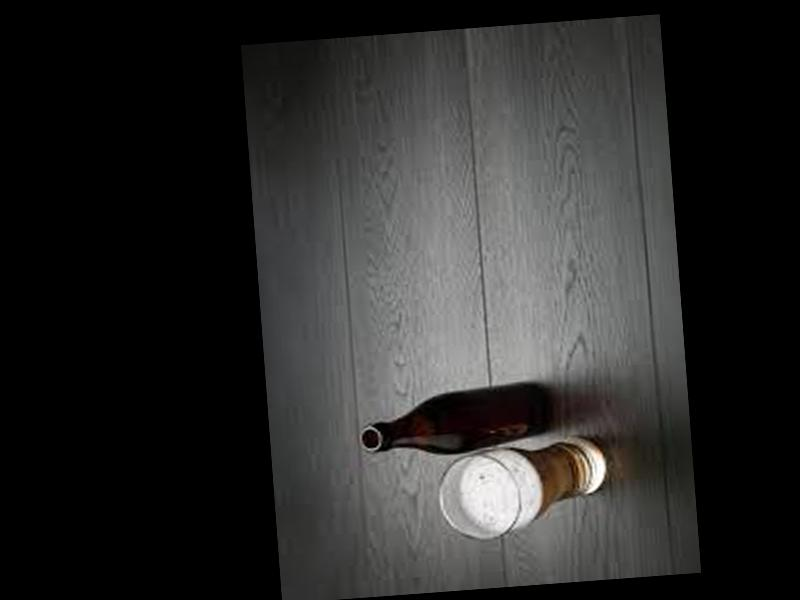Beer: (354, 378, 561, 462)
